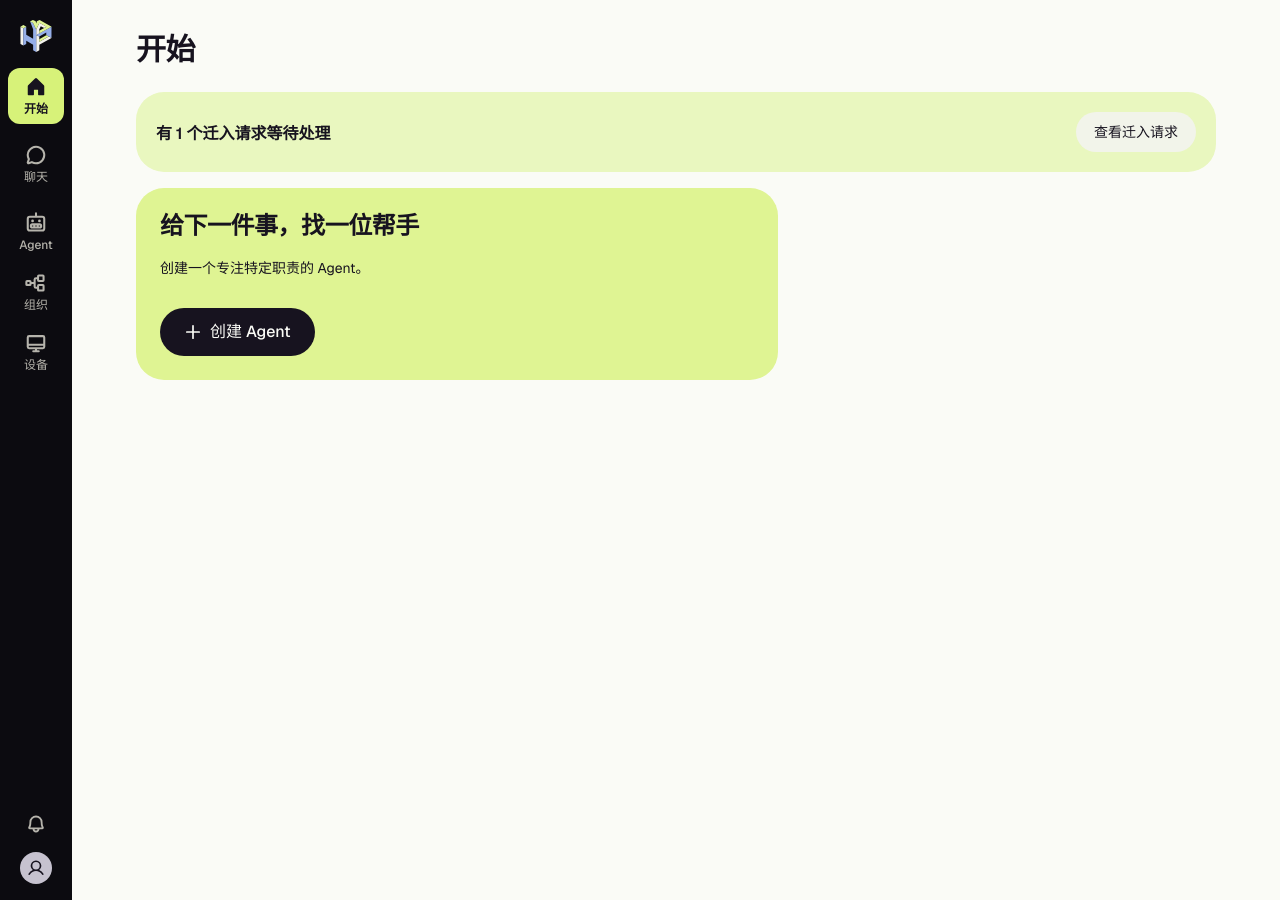
Scenario: 组织页：所有者视角 › 切换查看的组织不改变当前组织；“设为当前组织”后提示影响
Click the button "组织" at (36, 292), box [8,264,64,320]
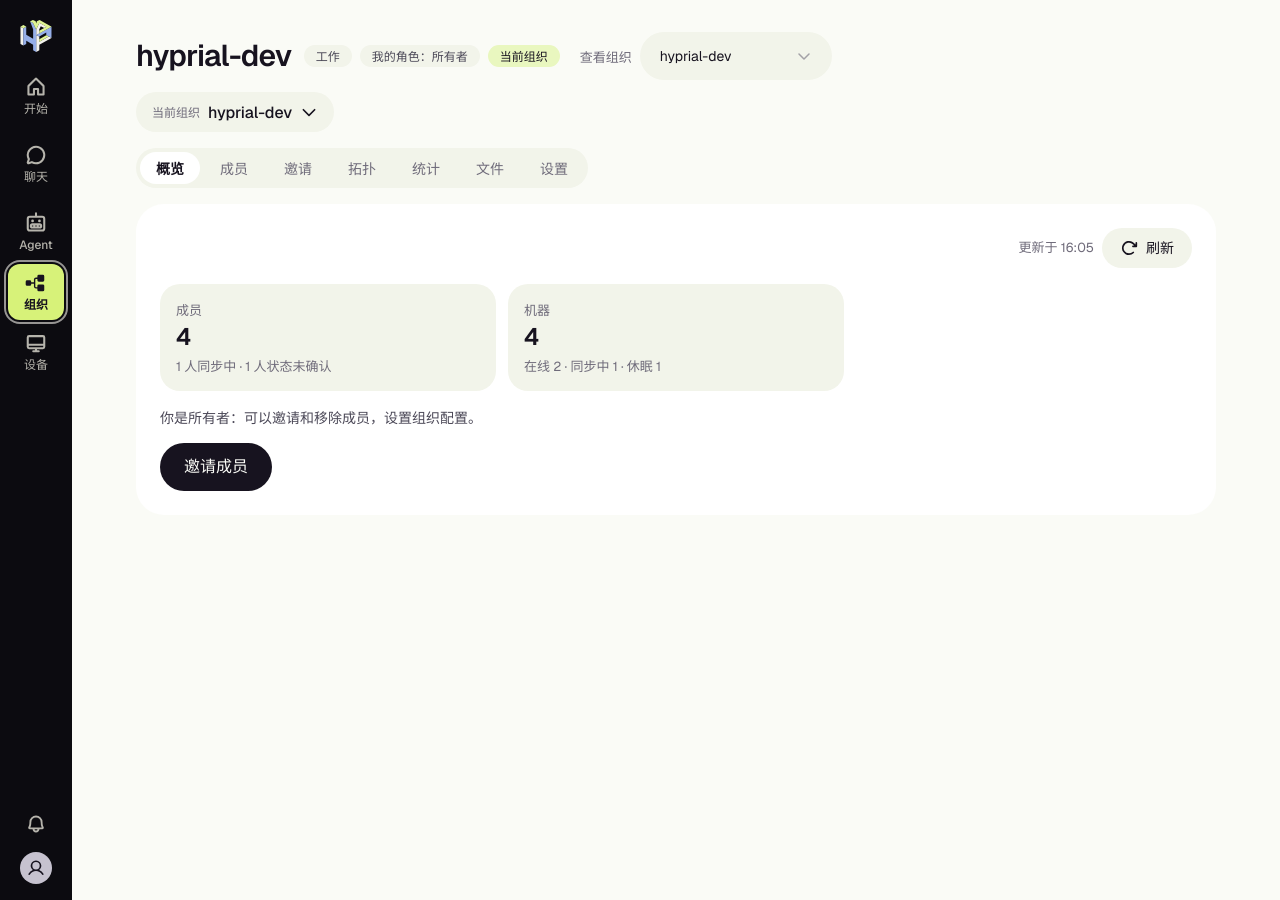
Click the dropdown named "查看组织" at (736, 56), box [640,32,832,80]
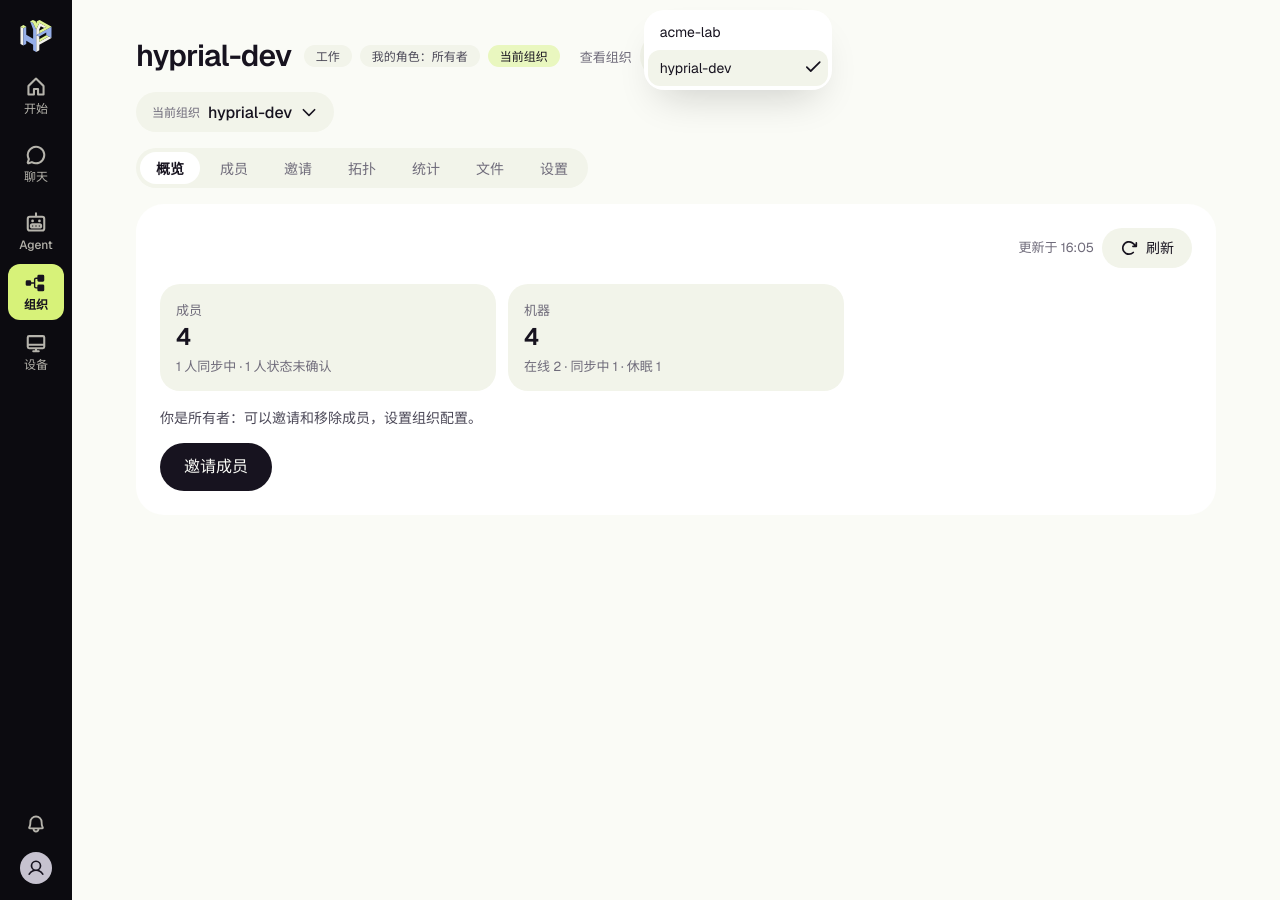
Click the option "acme-lab" at (690, 32), box [660,23,720,41]
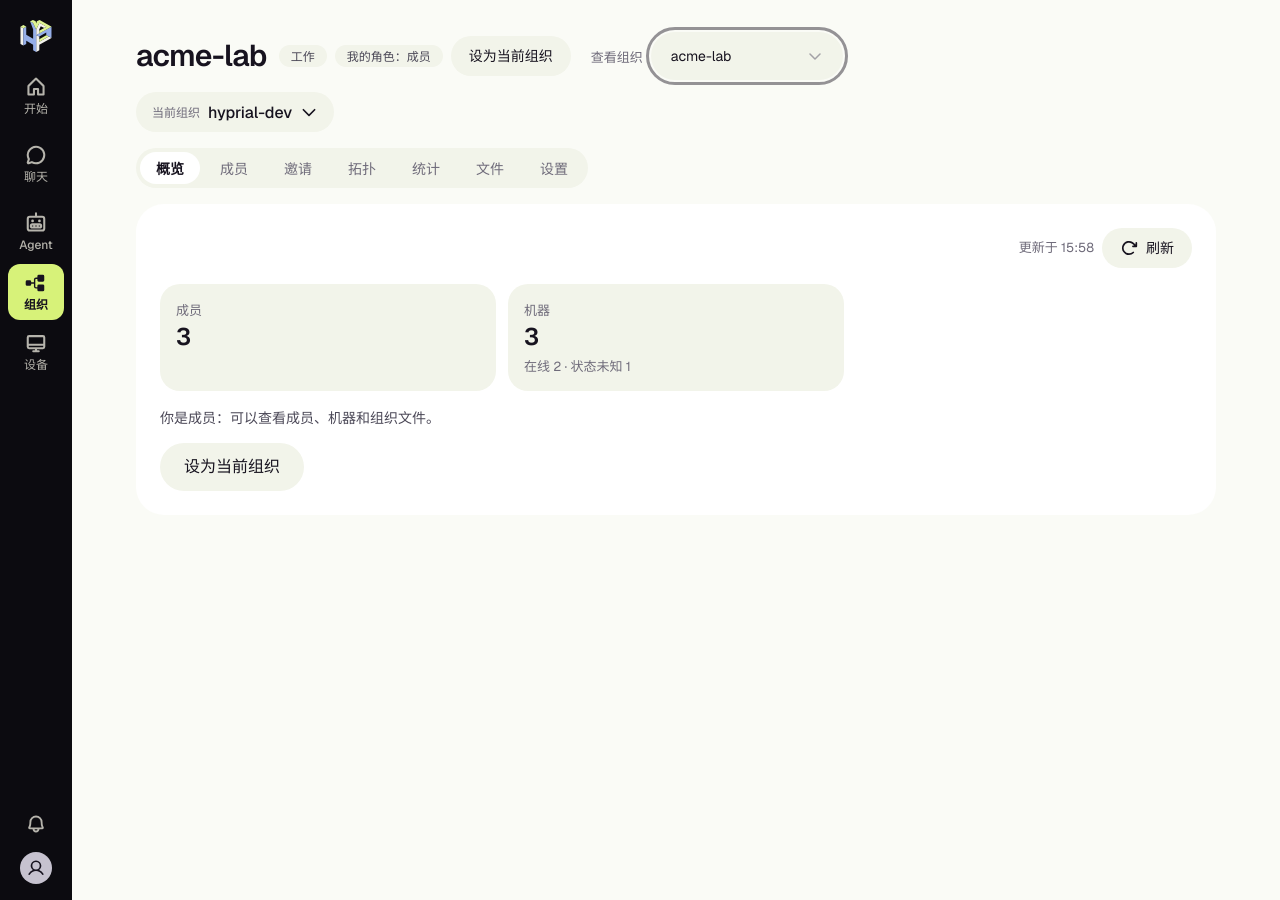
Result: the button with aria-label "组织切换器：hyprial-dev" is shown at [136,92,334,132]
Result: the heading "acme-lab" is shown at [136,38,267,74]
Result: the element named "组织状态" shows "我的角色：成员" at [279,36,571,76]
Click the button "设为当前组织" in the row of "我的角色：" at (511, 56), box [451,36,571,76]
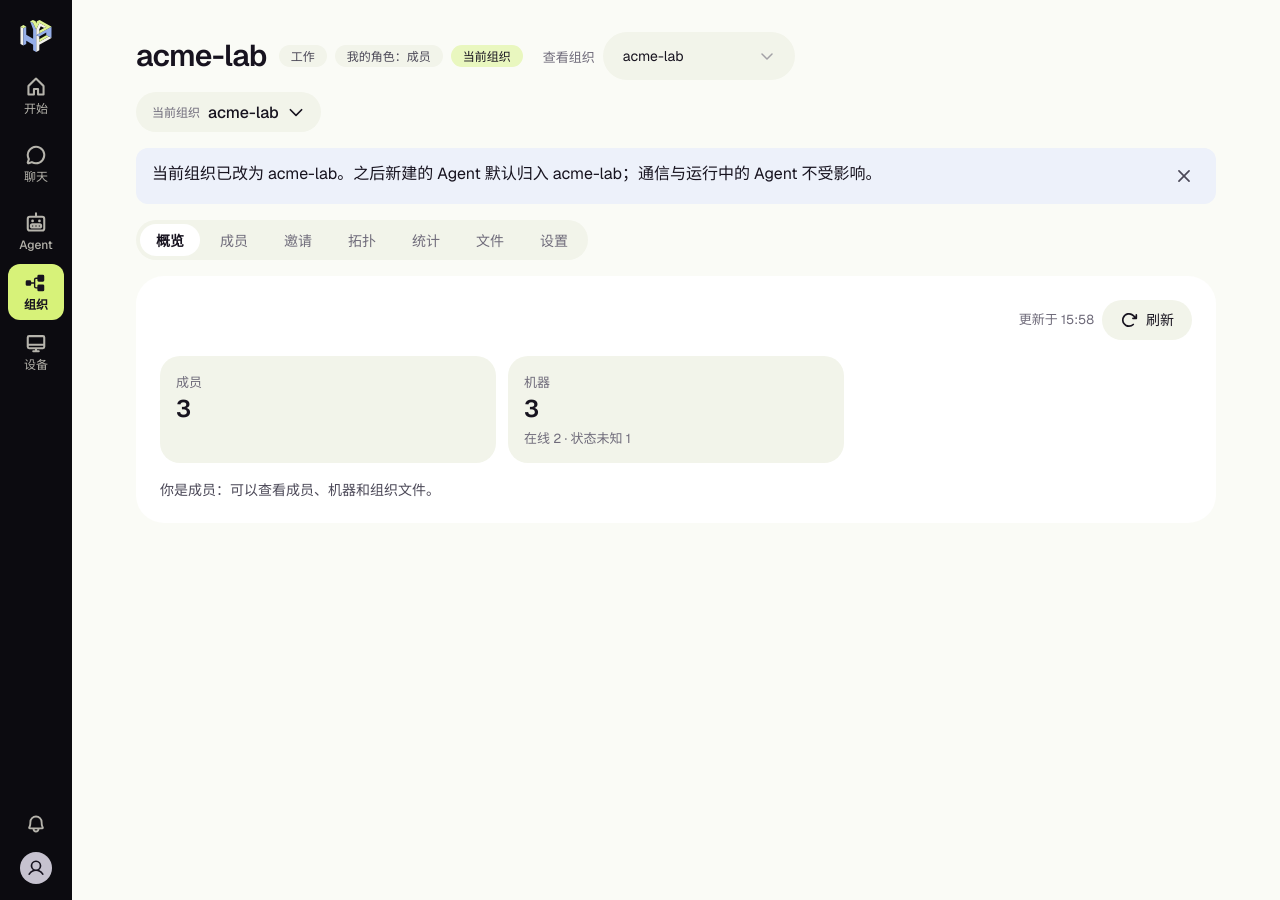
Result: the button with aria-label "组织切换器：acme-lab" is shown at [136,92,321,132]
Result: the text "当前组织已改为 acme-lab" is shown at [152,163,882,184]
